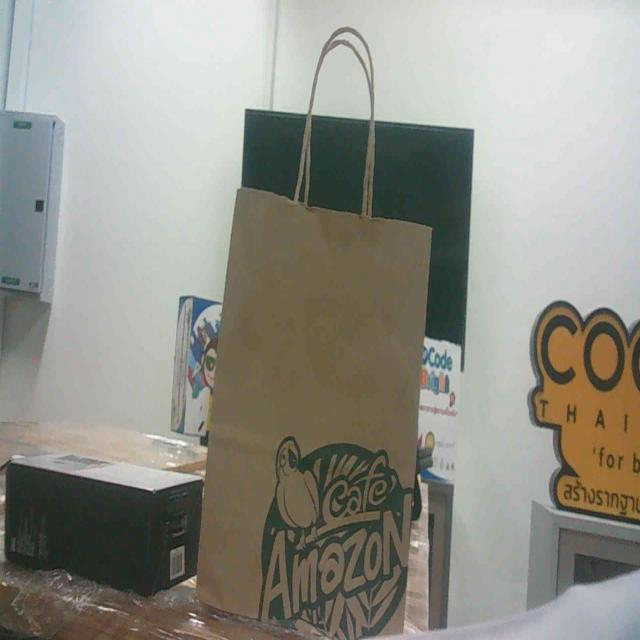bag: (202, 158, 445, 640)
